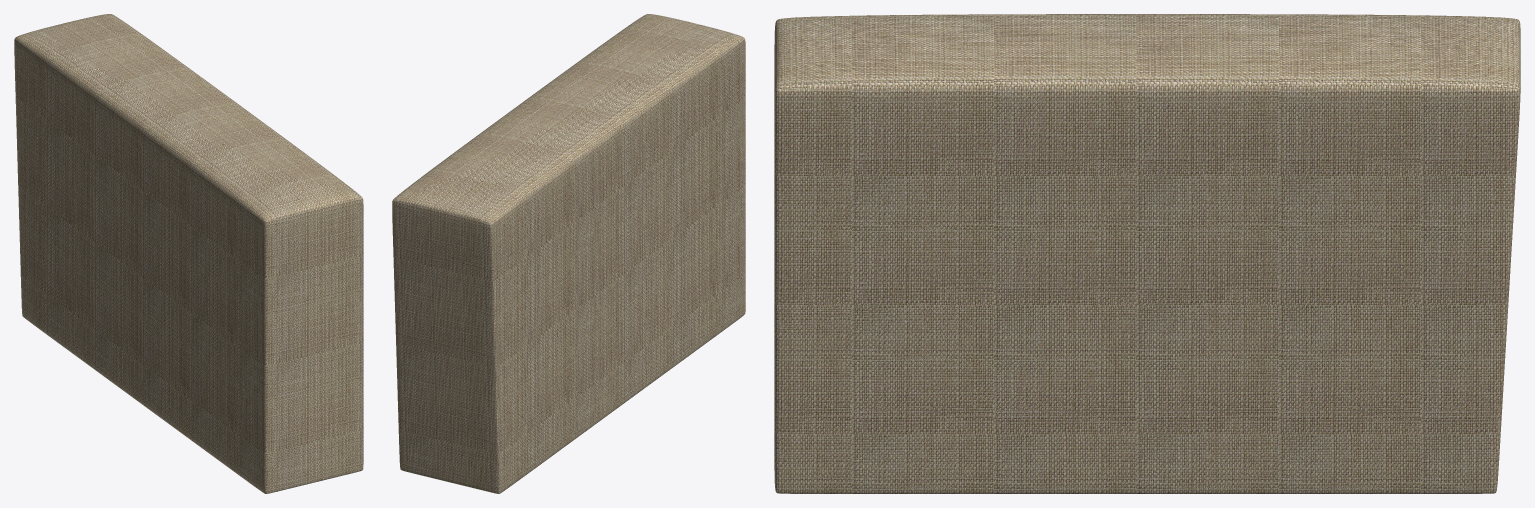
File: burtonjames_536sofa_leg1.gltf
The picture shows the model from 3 angles, left to right: view 1: azimuth 30°, elevation 25°; view 2: azimuth 150°, elevation 25°; view 3: azimuth 270°, elevation 25°; orthographic projection. The views are drawn at different scales.
Visible parts, largest first — view 1: burtonjames_536sofa_leg1; view 2: burtonjames_536sofa_leg1; view 3: burtonjames_536sofa_leg1.
Part boxes in pixels (<box>): burtonjames_536sofa_leg1: <box>14,14,363,493</box>; burtonjames_536sofa_leg1: <box>392,14,745,493</box>; burtonjames_536sofa_leg1: <box>774,14,1520,493</box>.
Size of the model in its own units: 241 by 651 by 1048.
1 material, 1 textured.
